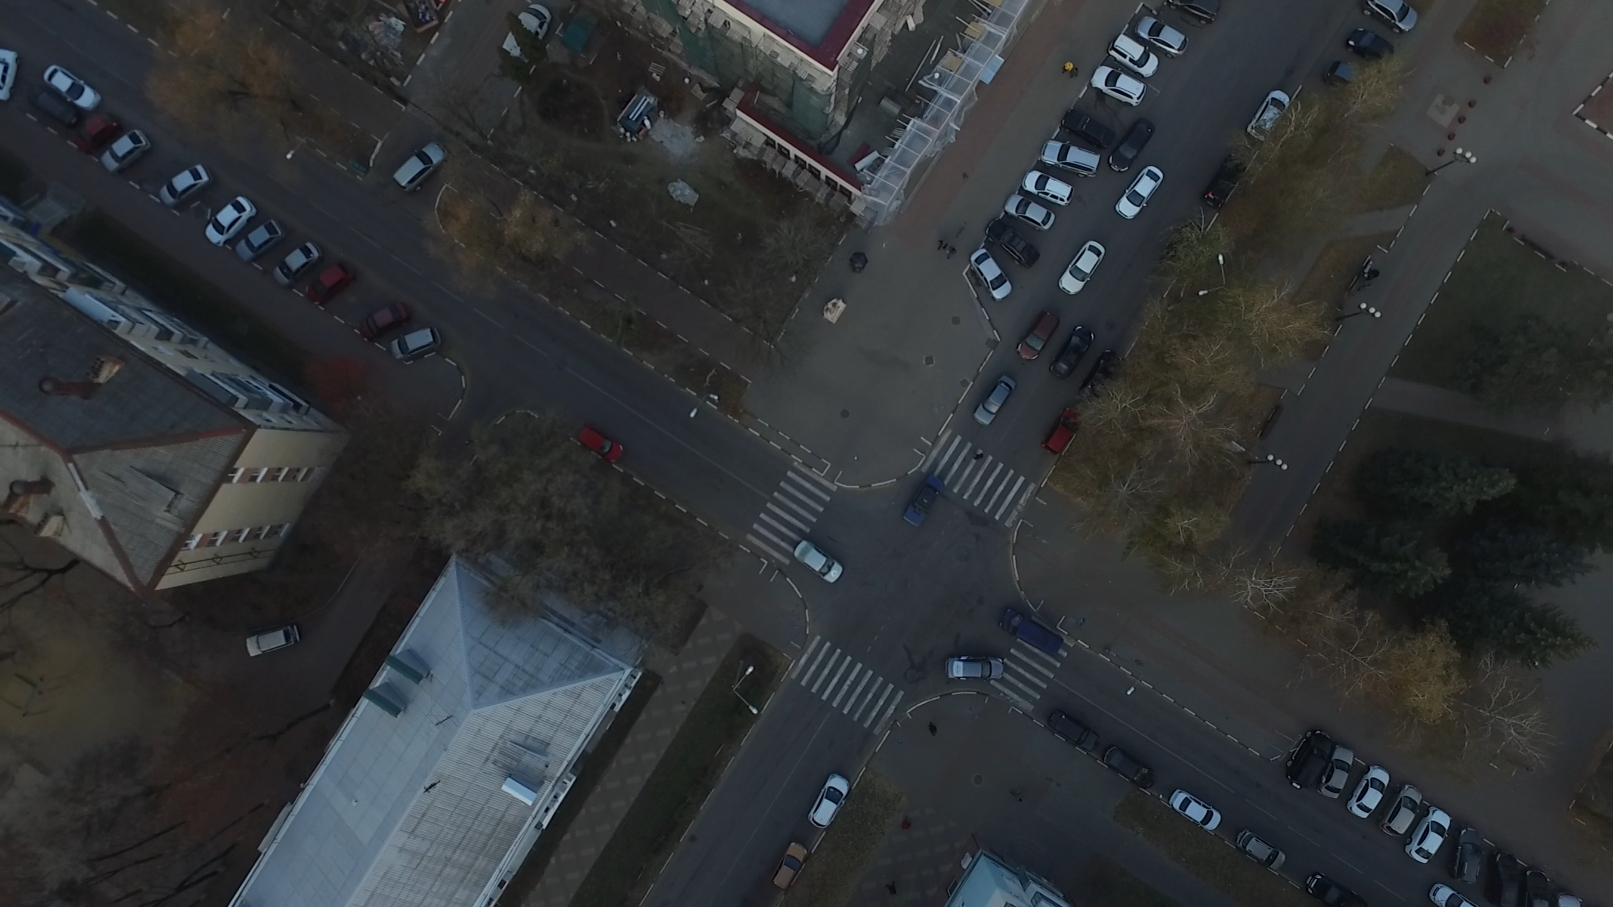car: (496, 3, 555, 64), (1000, 608, 1064, 662), (40, 62, 104, 114), (1287, 725, 1335, 794), (388, 137, 449, 190), (1406, 800, 1453, 867), (1375, 782, 1428, 841), (1014, 311, 1066, 369), (1200, 152, 1247, 214), (1113, 165, 1167, 219), (203, 192, 257, 245), (1046, 322, 1098, 377), (1108, 118, 1160, 173), (986, 215, 1041, 266), (1090, 63, 1147, 113), (809, 769, 852, 833), (1230, 827, 1288, 874), (1346, 763, 1393, 820), (793, 537, 843, 589), (896, 480, 946, 532), (1167, 786, 1221, 834), (1246, 87, 1292, 144), (1057, 243, 1107, 293), (1136, 16, 1190, 62), (160, 164, 216, 208), (1107, 743, 1158, 792), (1059, 105, 1114, 150), (1042, 141, 1102, 182), (1047, 707, 1097, 755), (234, 219, 287, 265), (273, 244, 323, 290), (974, 375, 1019, 427), (970, 247, 1015, 300), (355, 302, 412, 342), (578, 420, 629, 463), (1110, 37, 1163, 78), (305, 264, 358, 305), (1319, 744, 1356, 803), (1021, 169, 1079, 206), (390, 322, 444, 361), (1345, 27, 1395, 69), (1362, 1, 1418, 38), (244, 619, 300, 656), (1042, 406, 1081, 460), (1001, 192, 1052, 231), (103, 127, 150, 171), (1082, 348, 1124, 394), (1455, 821, 1484, 886), (773, 842, 813, 890), (1309, 870, 1362, 907), (72, 112, 119, 152), (1491, 847, 1519, 907), (1325, 59, 1367, 96), (1167, 1, 1220, 30), (1428, 878, 1479, 907), (946, 657, 1003, 682), (1524, 866, 1547, 907)
